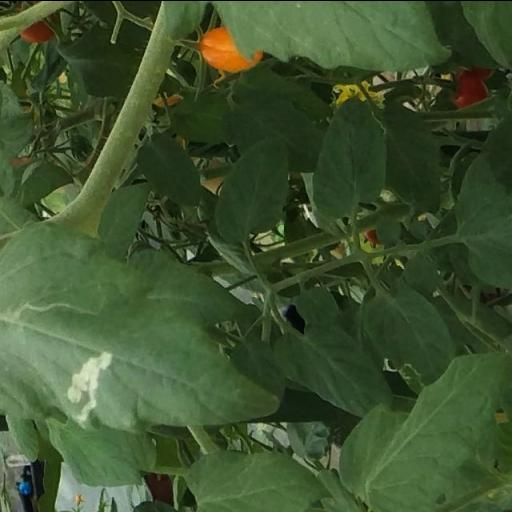disease_tomato: (0, 220, 285, 440)
